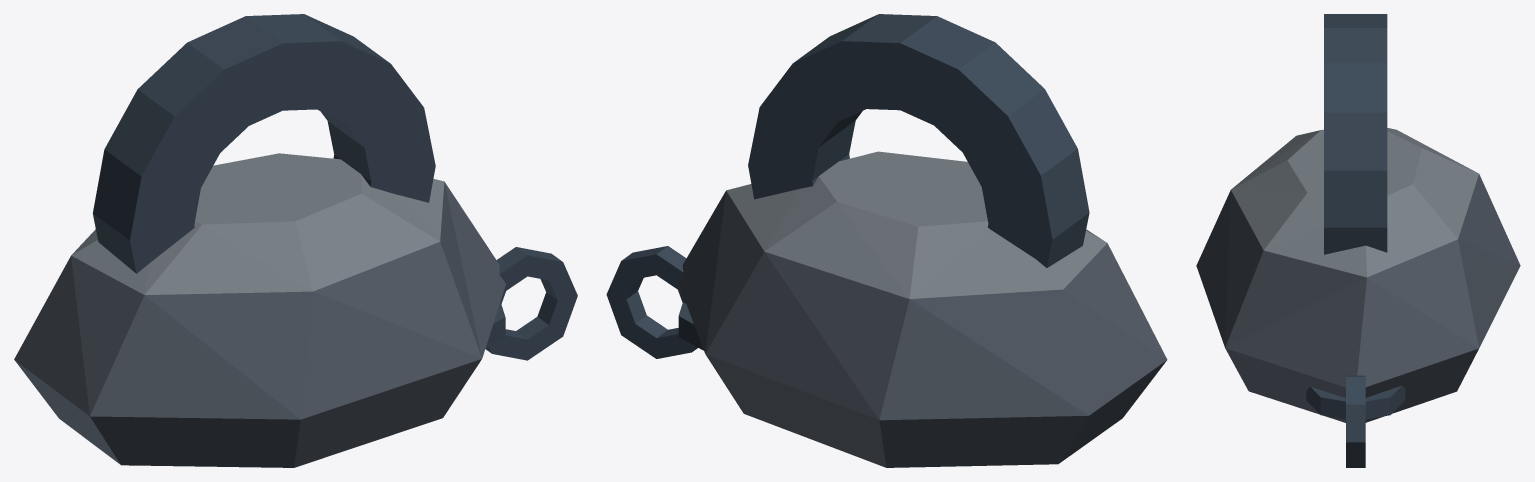
File: chain-anchor.glb
3 renders of one model, left to right at view 1: azimuth 30°, elevation 25°; view 2: azimuth 150°, elevation 25°; view 3: azimuth 270°, elevation 25°, orthographic. The views are drawn at different scales.
Visible parts, largest first — view 1: chain-anchor__body; view 2: chain-anchor__body; view 3: chain-anchor__body.
Part boxes in pixels (x1=…): chain-anchor__body: x1=14, y1=14, x2=577, y2=467; chain-anchor__body: x1=606, y1=14, x2=1167, y2=467; chain-anchor__body: x1=1196, y1=14, x2=1520, y2=467.
Bounding box in the file's own units: 1.29 × 0.925 × 0.8202.
